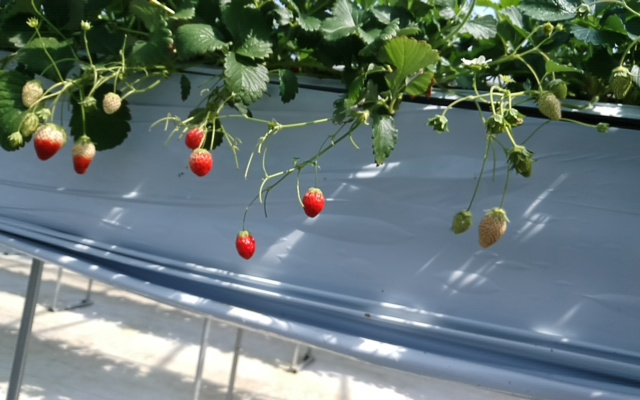GreenStrawberry: (477, 208, 508, 249), (536, 92, 562, 123), (20, 79, 45, 111), (612, 70, 632, 102), (451, 211, 471, 237), (103, 93, 121, 116), (550, 80, 568, 99)
MatureStrawberry: (33, 123, 67, 164), (72, 139, 96, 175), (189, 147, 215, 180), (302, 185, 326, 218), (235, 228, 258, 261), (183, 127, 207, 149)
